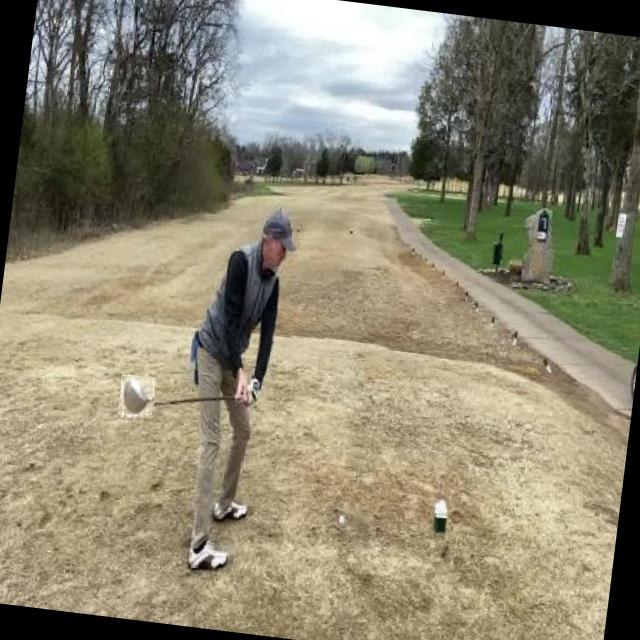club head: (118, 374, 156, 419)
